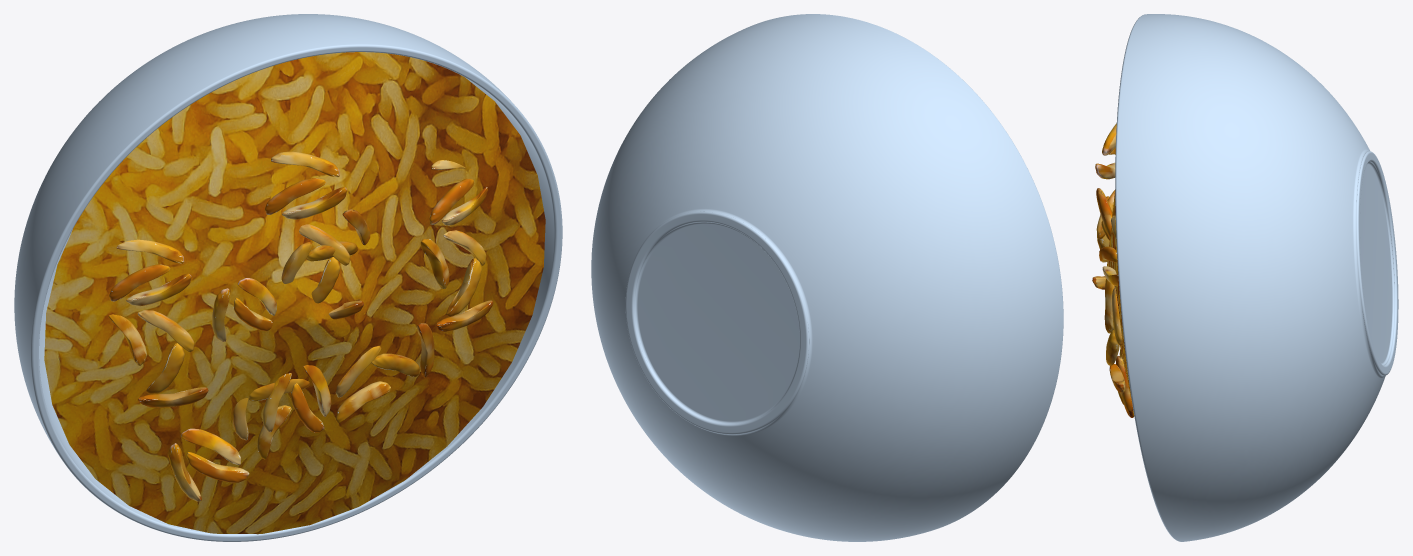
The model's file is biryanirice.glb.
3 views of the same model, side by side, from view 1: azimuth 30°, elevation 25°; view 2: azimuth 150°, elevation 25°; view 3: azimuth 270°, elevation 25° (orthographic). The views are drawn at different scales.
Parts seen in each view (by area): view 1: Cone, Kugel.003, Plane.008, Plane.002, Plane.001, Plane.004, Plane.003, Plane.005; view 2: Kugel.003; view 3: Kugel.003, Plane.001, Plane.004, Cone, Plane.005, Plane.002.
Boxes of the visible parts, <box> form: Cone: <box>44,52,545,534</box>; Kugel.003: <box>14,14,562,541</box>; Plane.008: <box>108,239,208,407</box>; Plane.002: <box>263,323,434,432</box>; Plane.001: <box>420,160,493,331</box>; Plane.004: <box>265,151,363,319</box>; Plane.003: <box>168,379,309,501</box>; Plane.005: <box>212,209,370,341</box>; Kugel.003: <box>591,14,1063,541</box>; Kugel.003: <box>1115,14,1398,541</box>; Plane.001: <box>1099,215,1125,393</box>; Plane.004: <box>1092,123,1116,289</box>; Cone: <box>1107,189,1131,401</box>; Plane.005: <box>1096,188,1112,240</box>; Plane.002: <box>1116,349,1134,417</box>.
Size of the model in its own units: 4.47 by 4.46 by 2.6.
8 materials, 7 textured.
